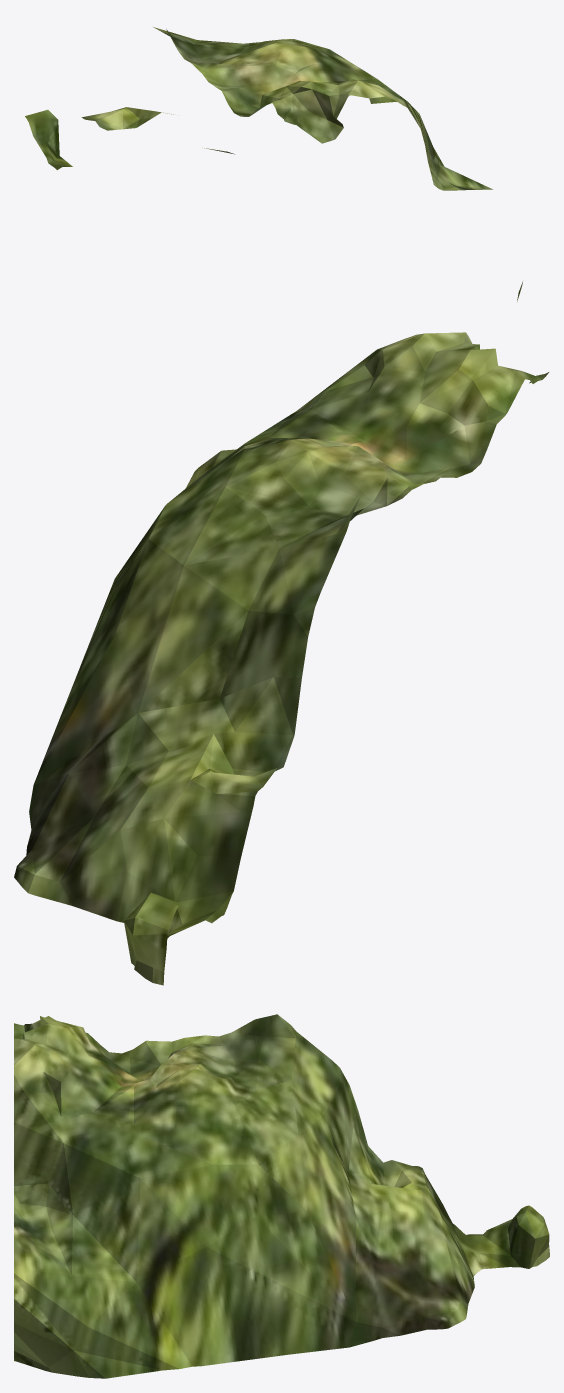
3 views of the same model, one above another, from view 1: azimuth 30°, elevation 25°; view 2: azimuth 150°, elevation 25°; view 3: azimuth 270°, elevation 25° (orthographic). The views are drawn at different scales.
Size of the model in its own units: 1.09 by 1.01 by 1.97.
1 material, 1 textured.
